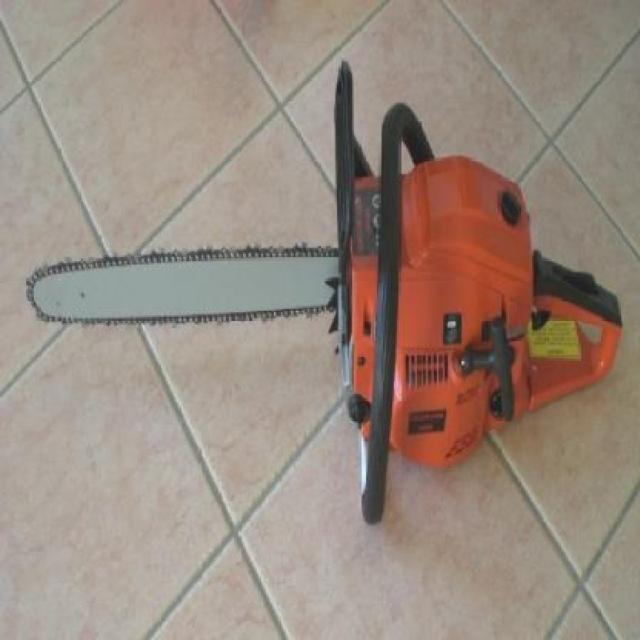Chainsaw: (25, 59, 624, 528)
